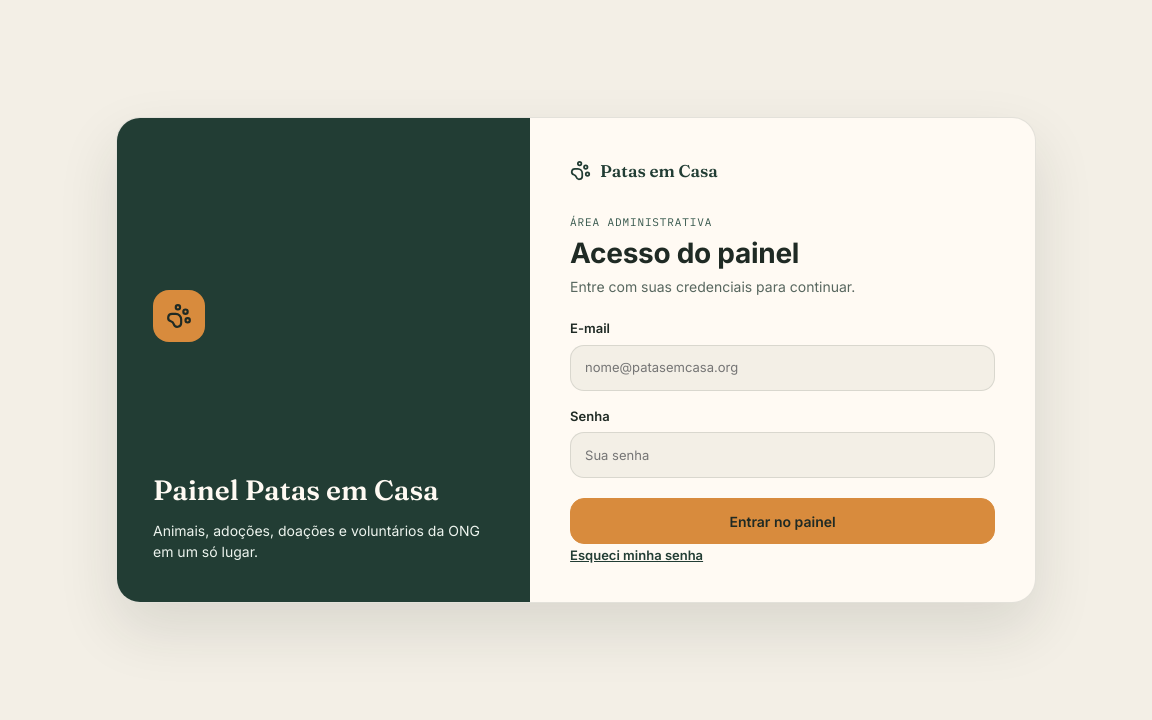
shows the API message for wrong credentials
Type "carla@patasemcasa.org" into the field labelled "E-mail" at [783, 368], box x1=570 y1=345 x2=995 y2=391
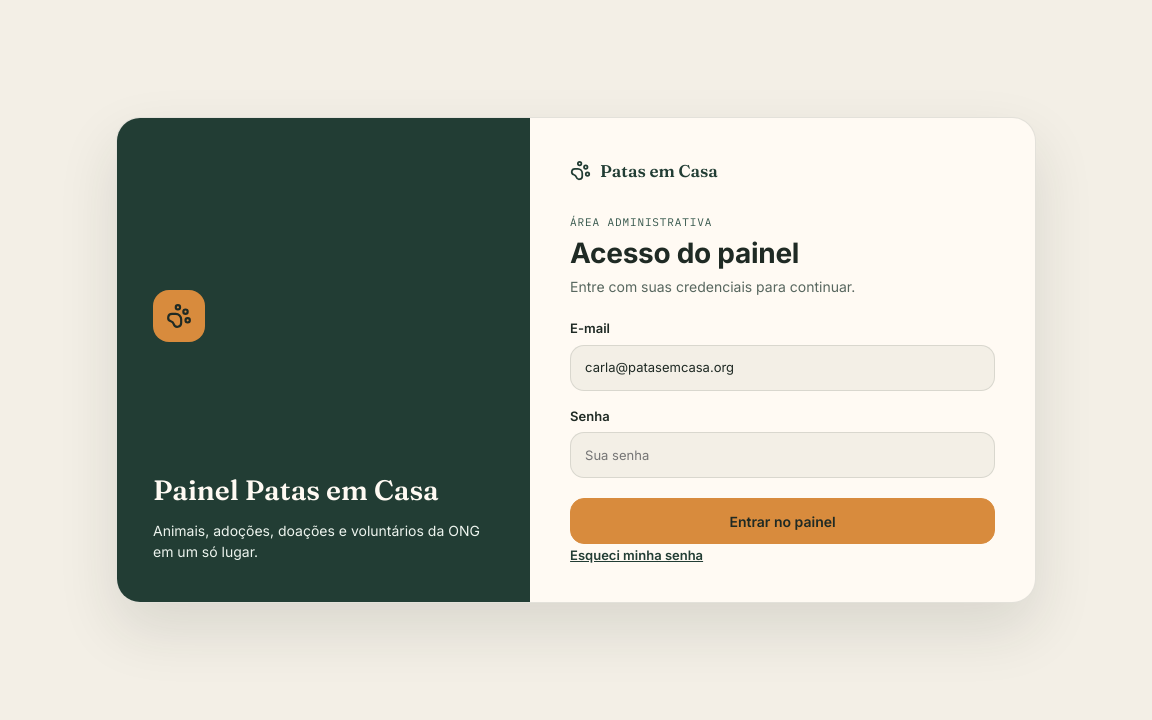
Type "senha forte 123" into the password field labelled "Senha" at [783, 455], box x1=570 y1=432 x2=995 y2=478
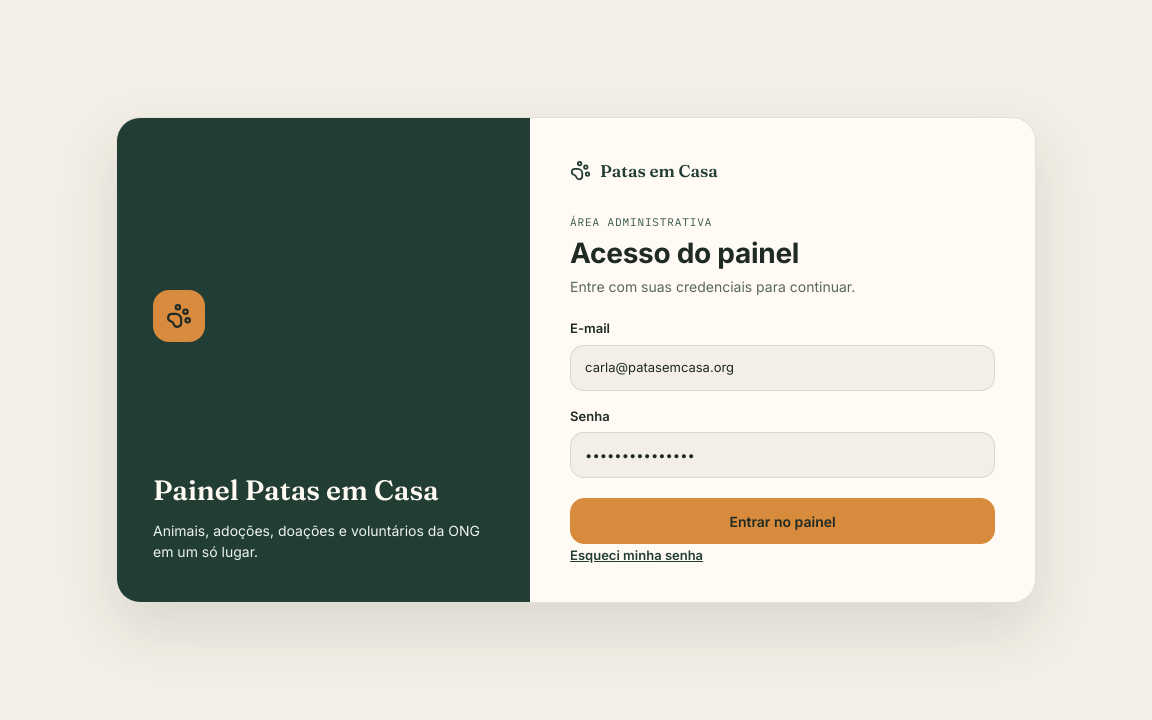
Click the button "Entrar no painel" at [783, 521], box x1=570 y1=498 x2=995 y2=544
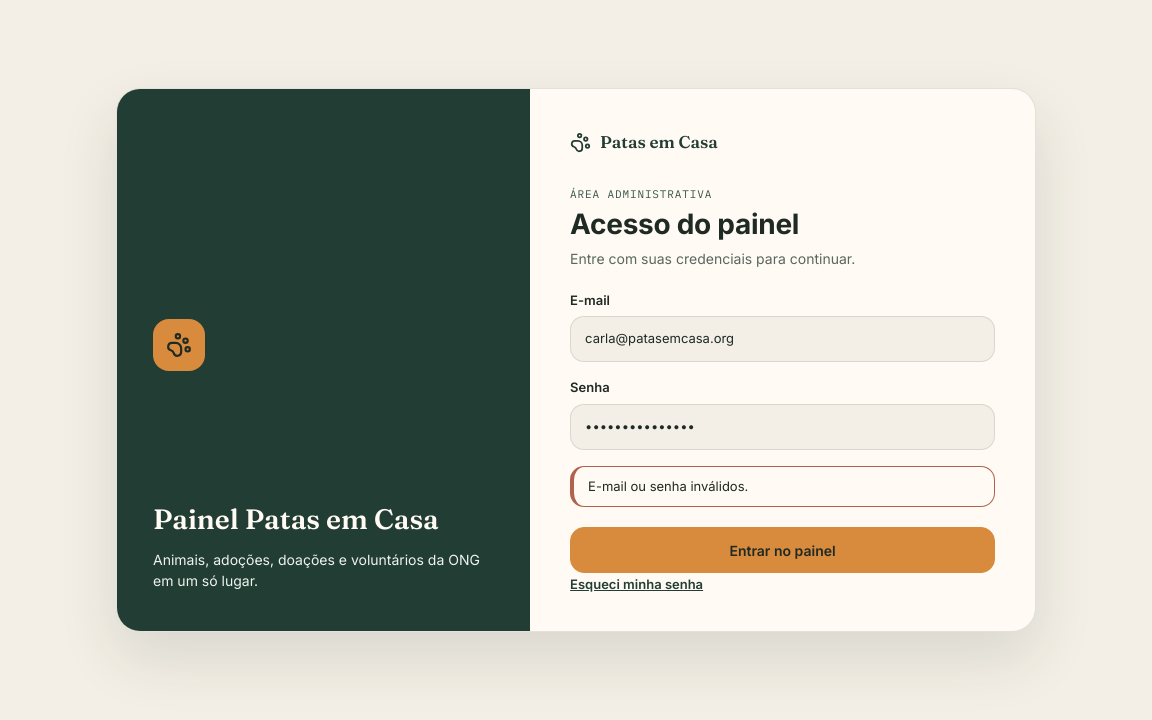
Expected: the message reads "E-mail ou senha inválidos.", x1=588 y1=478 x2=748 y2=494
